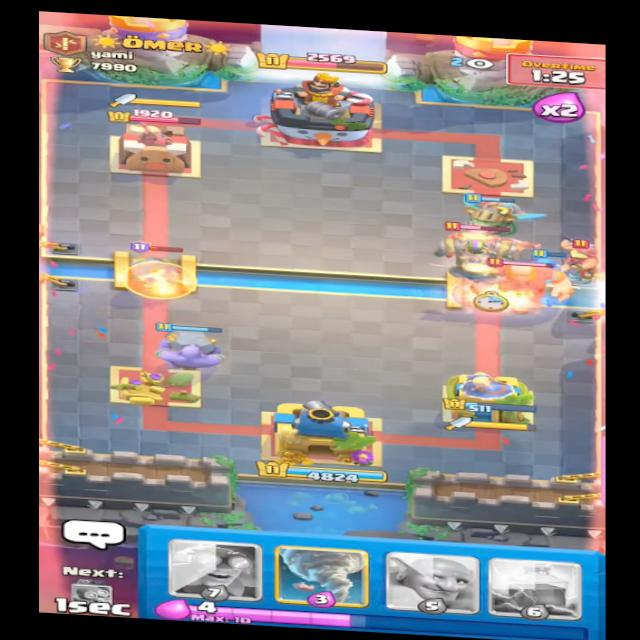evo-wizard: (124, 241, 206, 305)
fisherman: (515, 230, 615, 284)
giant: (460, 254, 580, 312)
goblin-machine: (426, 216, 540, 279)
